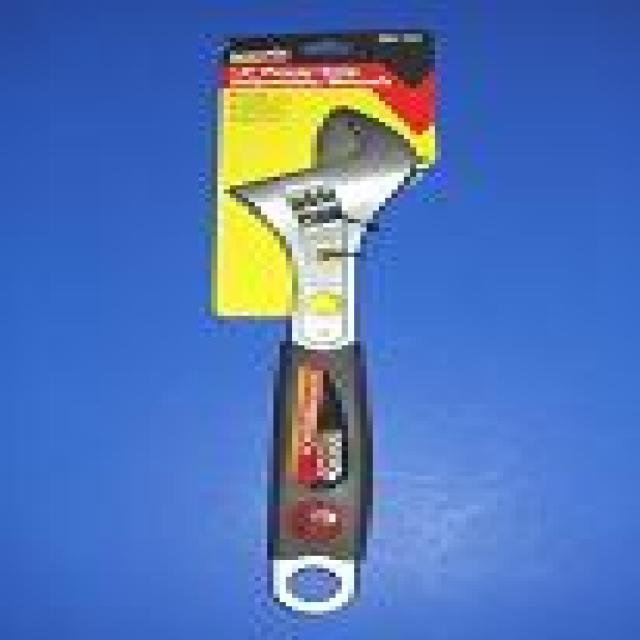wrench: (217, 99, 433, 625)
